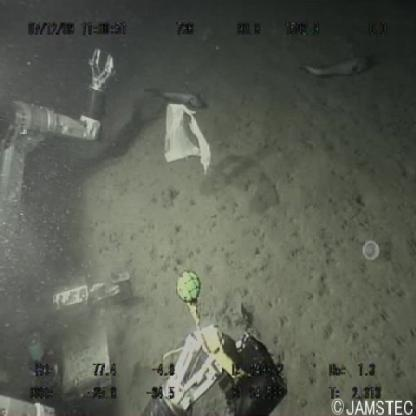Bio: (299, 51, 375, 81), (144, 83, 210, 109)
Rov: (1, 41, 300, 416)
Rác: (159, 100, 215, 176), (361, 237, 384, 267)
